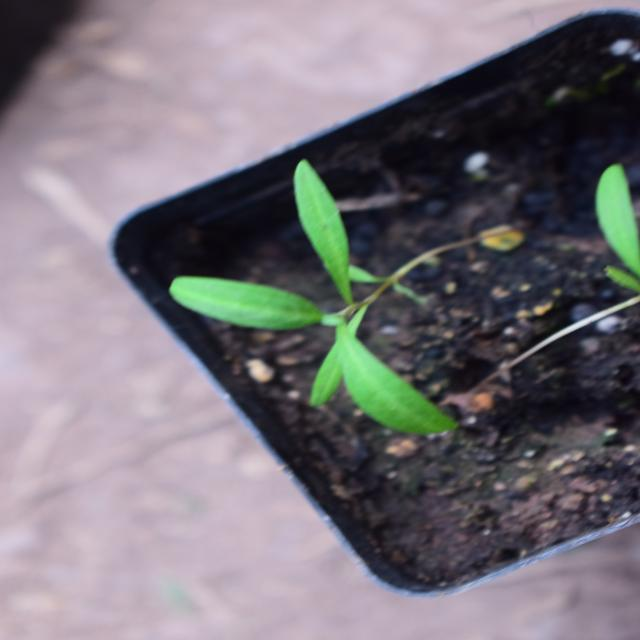white_smart_weed: (187, 158, 475, 514)
